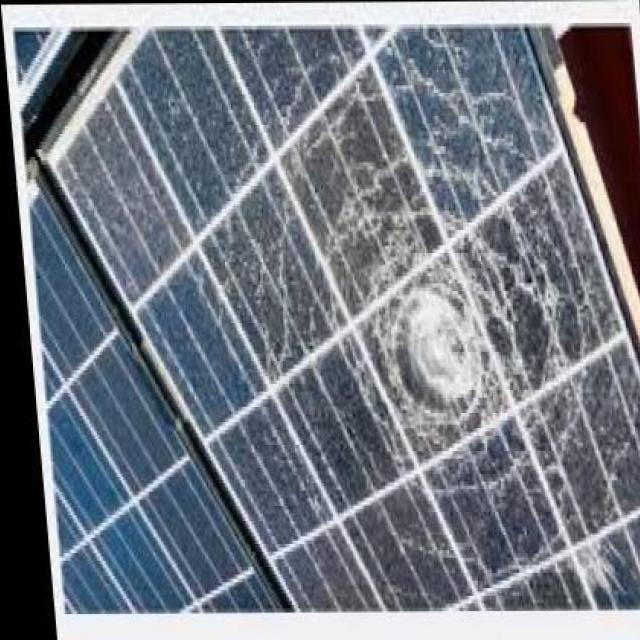cracked: (59, 22, 628, 616)
